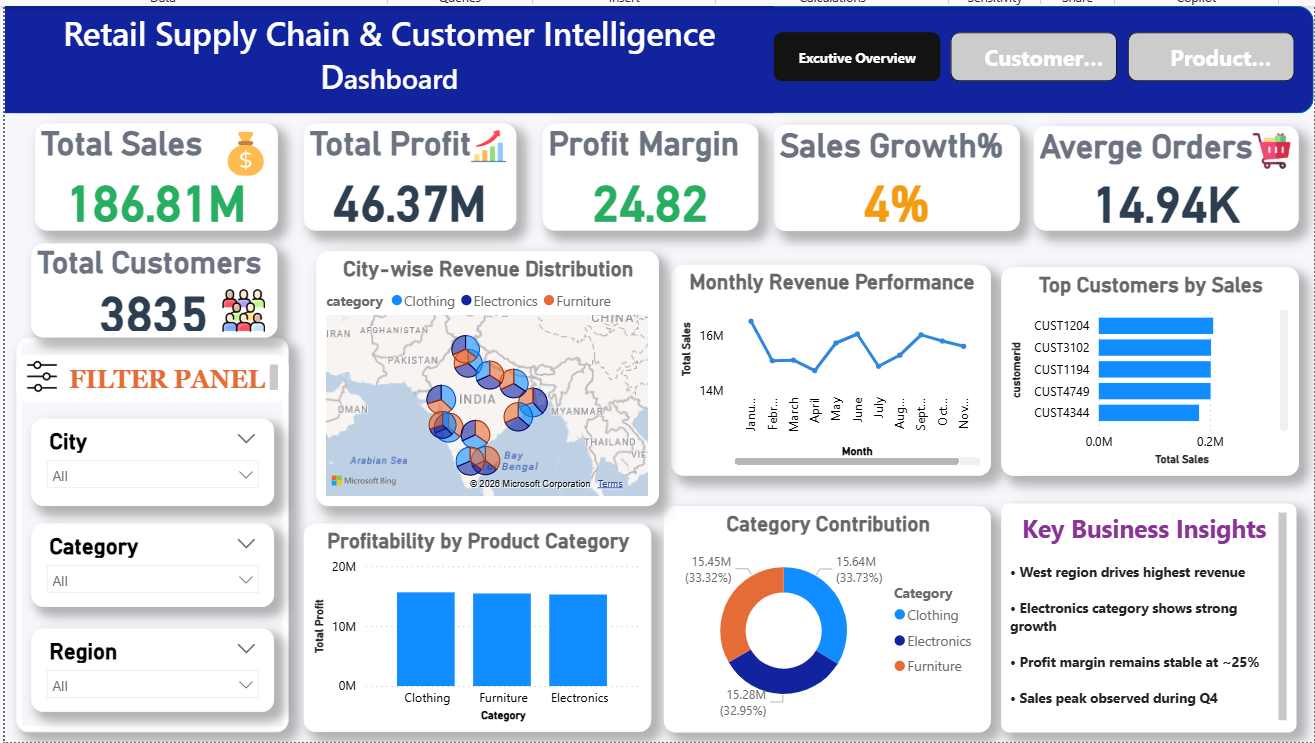

This screenshot's page, from the dashboard's own definition file:
{"tool":"powerbi","page":{"name":" Excutive Overview","canvas":[1280,720],"ordinal":0},"visuals":[{"type":"shape","box":[11,324.1,266.6,386.4],"z":0},{"type":"card","title":"  Total Sales","fields":{"Values":["public retail.Total Sales"]},"box":[29.3,114.9,237.2,105.2],"z":1000},{"type":"card","title":"Total Profit","fields":{"Values":["public retail.Total Profit"]},"box":[292.3,114.9,207.9,105.2],"z":2000},{"type":"card","title":"Sales Growth%","fields":{"Values":["public retail.Sales Growth %"]},"box":[752,116.2,240.9,103.9],"z":3000},{"type":"card","title":"Averge Orders ","fields":{"Values":["public retail.Avg Order Value"]},"box":[1006.4,117.4,259.2,102.7],"z":4000},{"type":"card","title":"Total Customers","fields":{"Values":["public retail.Total Customers"]},"box":[25.7,232.3,240.9,91.7],"z":5000},{"type":"clusteredColumnChart","title":"Profitability by Product Category","fields":{"Category":["public retail.category"],"Y":["public retail.Total Profit"]},"box":[292.3,506.3,339.9,204.2],"z":6000},{"type":"donutChart","title":"Category Contribution","fields":{"Y":["public retail.Total Profit"],"Series":["public retail.category"]},"box":[644.4,489.1,320.4,221.3],"z":7000},{"type":"lineChart","title":"Monthly Revenue Performance","fields":{"Category":["public retail.orderdate.Variation.Date Hierarchy.Month"],"Y":["public retail.Total Sales"]},"box":[651.8,253.1,313,206.7],"z":8000},{"type":"textbox","box":[974.6,486.7,288.6,223.8],"z":9000},{"type":"slicer","fields":{"Values":["public retail.region"]},"box":[25.7,609,237.2,81.9],"z":10000},{"type":"slicer","fields":{"Values":["public retail.city"]},"box":[25.7,403.5,237.2,85.6],"z":11000},{"type":"slicer","fields":{"Values":["public retail.category"]},"box":[25.7,506.3,237.2,81.9],"z":12000},{"type":"textbox","box":[11,341.2,266.6,46.5],"z":13000},{"type":"image","box":[207.9,116.2,55,56.3],"z":14000},{"type":"image","box":[11,341.2,50.1,42.8],"z":15000},{"type":"image","box":[446.3,114.9,53.8,44],"z":16000},{"type":"image","box":[207.9,271.5,51.4,52.6],"z":17000},{"type":"image","box":[1211.8,118.6,53.8,46.5],"z":18000},{"type":"shape","box":[0,0,1280.3,105.2],"z":19000},{"type":"textbox","box":[0,0,752,105.2],"z":20000},{"type":"pageNavigator","box":[752,25.7,511.1,48.9],"z":21000},{"type":"clusteredBarChart","title":"Top Customers by Sales","fields":{"Category":["public retail.customerid"],"Y":["public retail.Total Sales"]},"box":[974.6,255.6,291,204.2],"z":22000},{"type":"map","title":"City-wise Revenue Distribution","fields":{"Category":["public retail.city"],"Size":["public retail.Total Sales"],"Series":["public retail.category"]},"box":[304.5,239.7,335.1,249.5],"z":23000},{"type":"card","title":"Profit Margin","fields":{"Values":["public retail.Profit Margin"]},"box":[525.8,114.9,211.6,105.2],"z":24000}]}

Visuals, with their boxes on the page's 1280x720 design canvas (x1, y1, x2, y2). These are canvas units, not pixel positions in the 1315x743 screenshot, which may show the page scaled, cropped or inside an application window:
shape: x1=11, y1=324, x2=278, y2=710
"  Total Sales" card: x1=29, y1=115, x2=266, y2=220
"Total Profit" card: x1=292, y1=115, x2=500, y2=220
"Sales Growth%" card: x1=752, y1=116, x2=993, y2=220
"Averge Orders " card: x1=1006, y1=117, x2=1266, y2=220
"Total Customers" card: x1=26, y1=232, x2=267, y2=324
"Profitability by Product Category" clusteredColumnChart: x1=292, y1=506, x2=632, y2=710
"Category Contribution" donutChart: x1=644, y1=489, x2=965, y2=710
"Monthly Revenue Performance" lineChart: x1=652, y1=253, x2=965, y2=460
textbox: x1=975, y1=487, x2=1263, y2=710
slicer - public retail.region: x1=26, y1=609, x2=263, y2=691
slicer - public retail.city: x1=26, y1=404, x2=263, y2=489
slicer - public retail.category: x1=26, y1=506, x2=263, y2=588
textbox: x1=11, y1=341, x2=278, y2=388
image: x1=208, y1=116, x2=263, y2=172
image: x1=11, y1=341, x2=61, y2=384
image: x1=446, y1=115, x2=500, y2=159
image: x1=208, y1=272, x2=259, y2=324
image: x1=1212, y1=119, x2=1266, y2=165
shape: x1=0, y1=0, x2=1280, y2=105
textbox: x1=0, y1=0, x2=752, y2=105
pageNavigator: x1=752, y1=26, x2=1263, y2=75
"Top Customers by Sales" clusteredBarChart: x1=975, y1=256, x2=1266, y2=460
"City-wise Revenue Distribution" map: x1=304, y1=240, x2=640, y2=489
"Profit Margin" card: x1=526, y1=115, x2=737, y2=220
